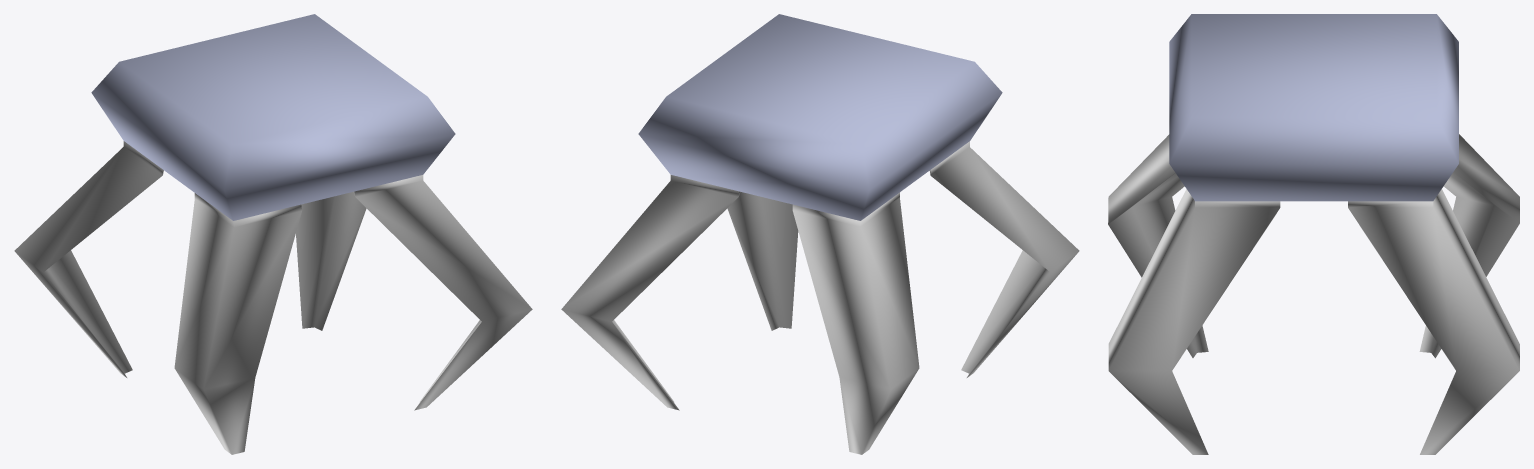
File: grabber.fbx
The picture shows the model from 3 angles, left to right: view 1: azimuth 30°, elevation 25°; view 2: azimuth 150°, elevation 25°; view 3: azimuth 270°, elevation 25°; orthographic projection. The views are drawn at different scales.
Visible parts, largest first — view 1: Robot_Mesh; view 2: Robot_Mesh; view 3: Robot_Mesh.
Part boxes in pixels (<box>): Robot_Mesh: <box>14,14,532,454</box>; Robot_Mesh: <box>561,14,1079,454</box>; Robot_Mesh: <box>1108,14,1519,454</box>.
Bounding box in the file's own units: 0.7933 × 0.7171 × 0.7925.
